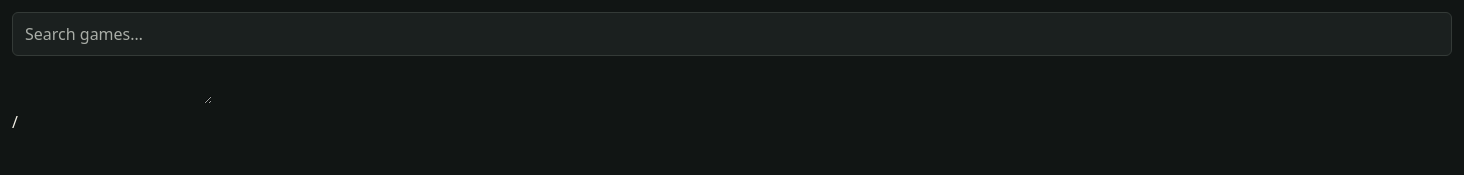
Test: SearchBox › keeps focus in the input when the no-results popup is pressed, so the click lands
Type "zzz" into the dropdown labelled "Search games" at (732, 34), box [12,12,1452,56]
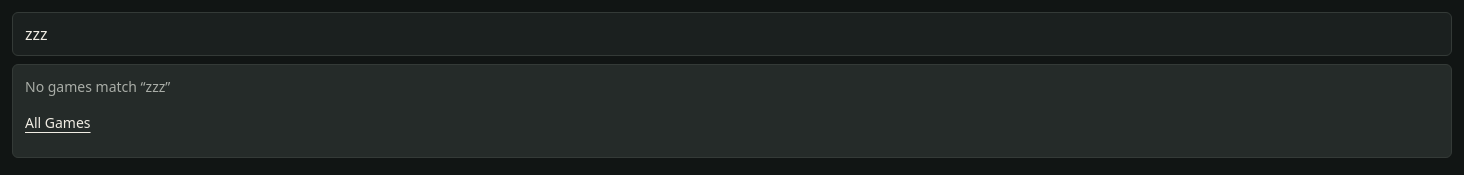
Press the mouse on the link "All Games" at (58, 122), box [25,113,91,132]
Click the link "All Games" at (58, 122), box [25,113,91,132]
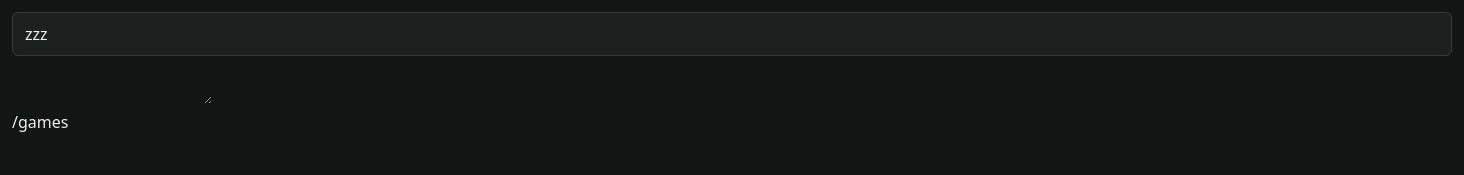
Expected: the text named "location" reads "/games", [12,111,68,133]
